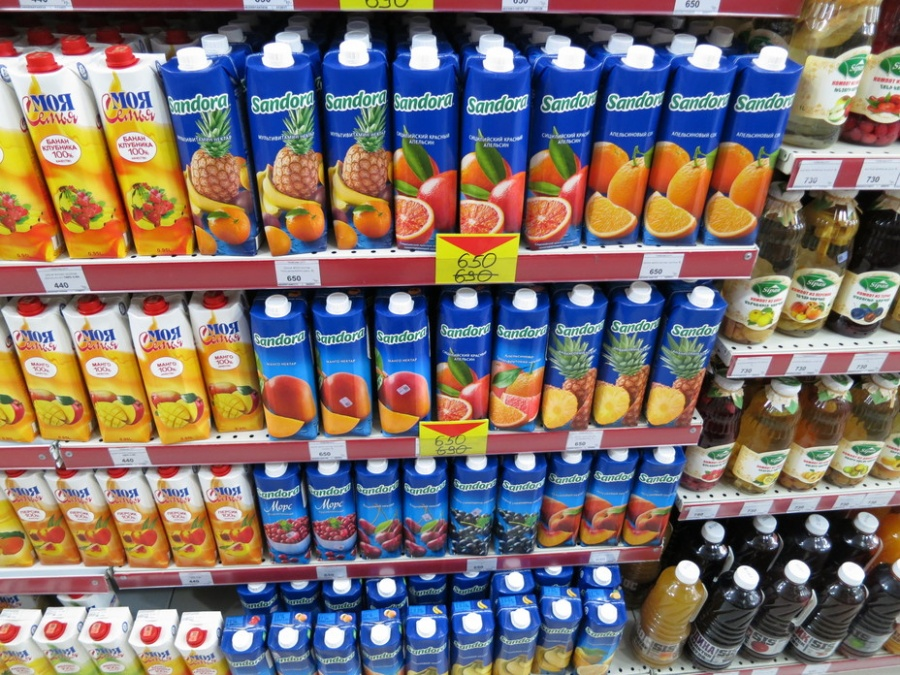juice: (90, 44, 201, 264), (158, 49, 269, 266), (638, 48, 742, 253), (701, 49, 807, 250), (517, 47, 608, 257), (583, 41, 672, 255), (388, 41, 467, 261), (459, 36, 535, 237), (258, 34, 322, 263), (327, 34, 390, 257), (63, 302, 158, 447), (638, 284, 728, 430), (127, 296, 214, 446), (188, 293, 270, 443), (589, 283, 667, 432), (309, 298, 383, 445), (539, 282, 608, 434), (490, 284, 554, 437), (369, 291, 431, 439), (260, 291, 317, 451), (432, 287, 495, 425)
